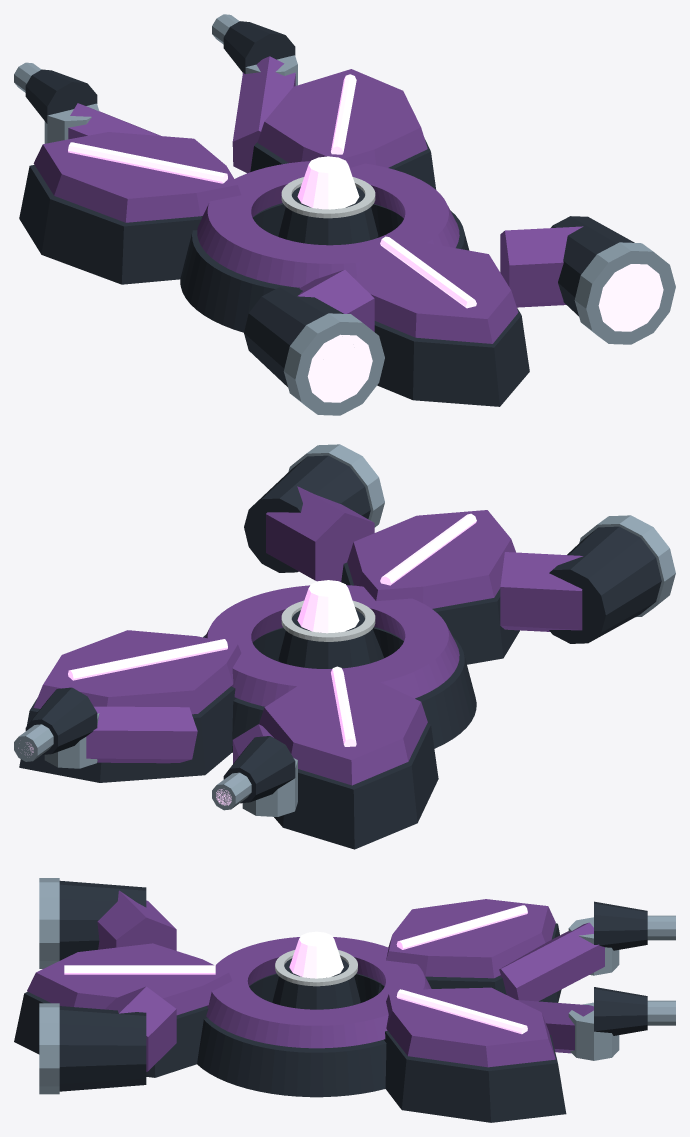
File: c5_miniHive.glb
The picture shows the model from 3 angles, top to bottom: view 1: azimuth 30°, elevation 25°; view 2: azimuth 150°, elevation 25°; view 3: azimuth 270°, elevation 25°; orthographic projection. The views are drawn at different scales.
Parts seen in each view (by area): view 1: miniHive / Armor, miniHive / Chassis, miniHive / Energy, miniHive / Titanium, miniHive / Identification; view 2: miniHive / Armor, miniHive / Chassis, miniHive / Titanium, miniHive / Energy, miniHive / Identification; view 3: miniHive / Armor, miniHive / Chassis, miniHive / Titanium, miniHive / Energy, miniHive / Identification.
Part boxes in pixels (x1,y1,x2,y2): miniHive / Armor: (33,56,583,343); miniHive / Chassis: (19,21,634,406); miniHive / Energy: (68,74,663,402); miniHive / Titanium: (14,14,675,415); miniHive / Identification: (281,177,375,218); miniHive / Armor: (33,486,582,785); miniHive / Chassis: (19,455,661,849); miniHive / Titanium: (14,444,675,816); miniHive / Energy: (18,513,476,805); miniHive / Identification: (281,600,375,641); miniHive / Armor: (27,890,604,1071); miniHive / Chassis: (14,880,647,1122); miniHive / Titanium: (39,878,675,1094); miniHive / Energy: (64,905,527,1034); miniHive / Identification: (275,950,357,986).
Bounding box in the file's own units: 1.23 × 0.36 × 2.1.
